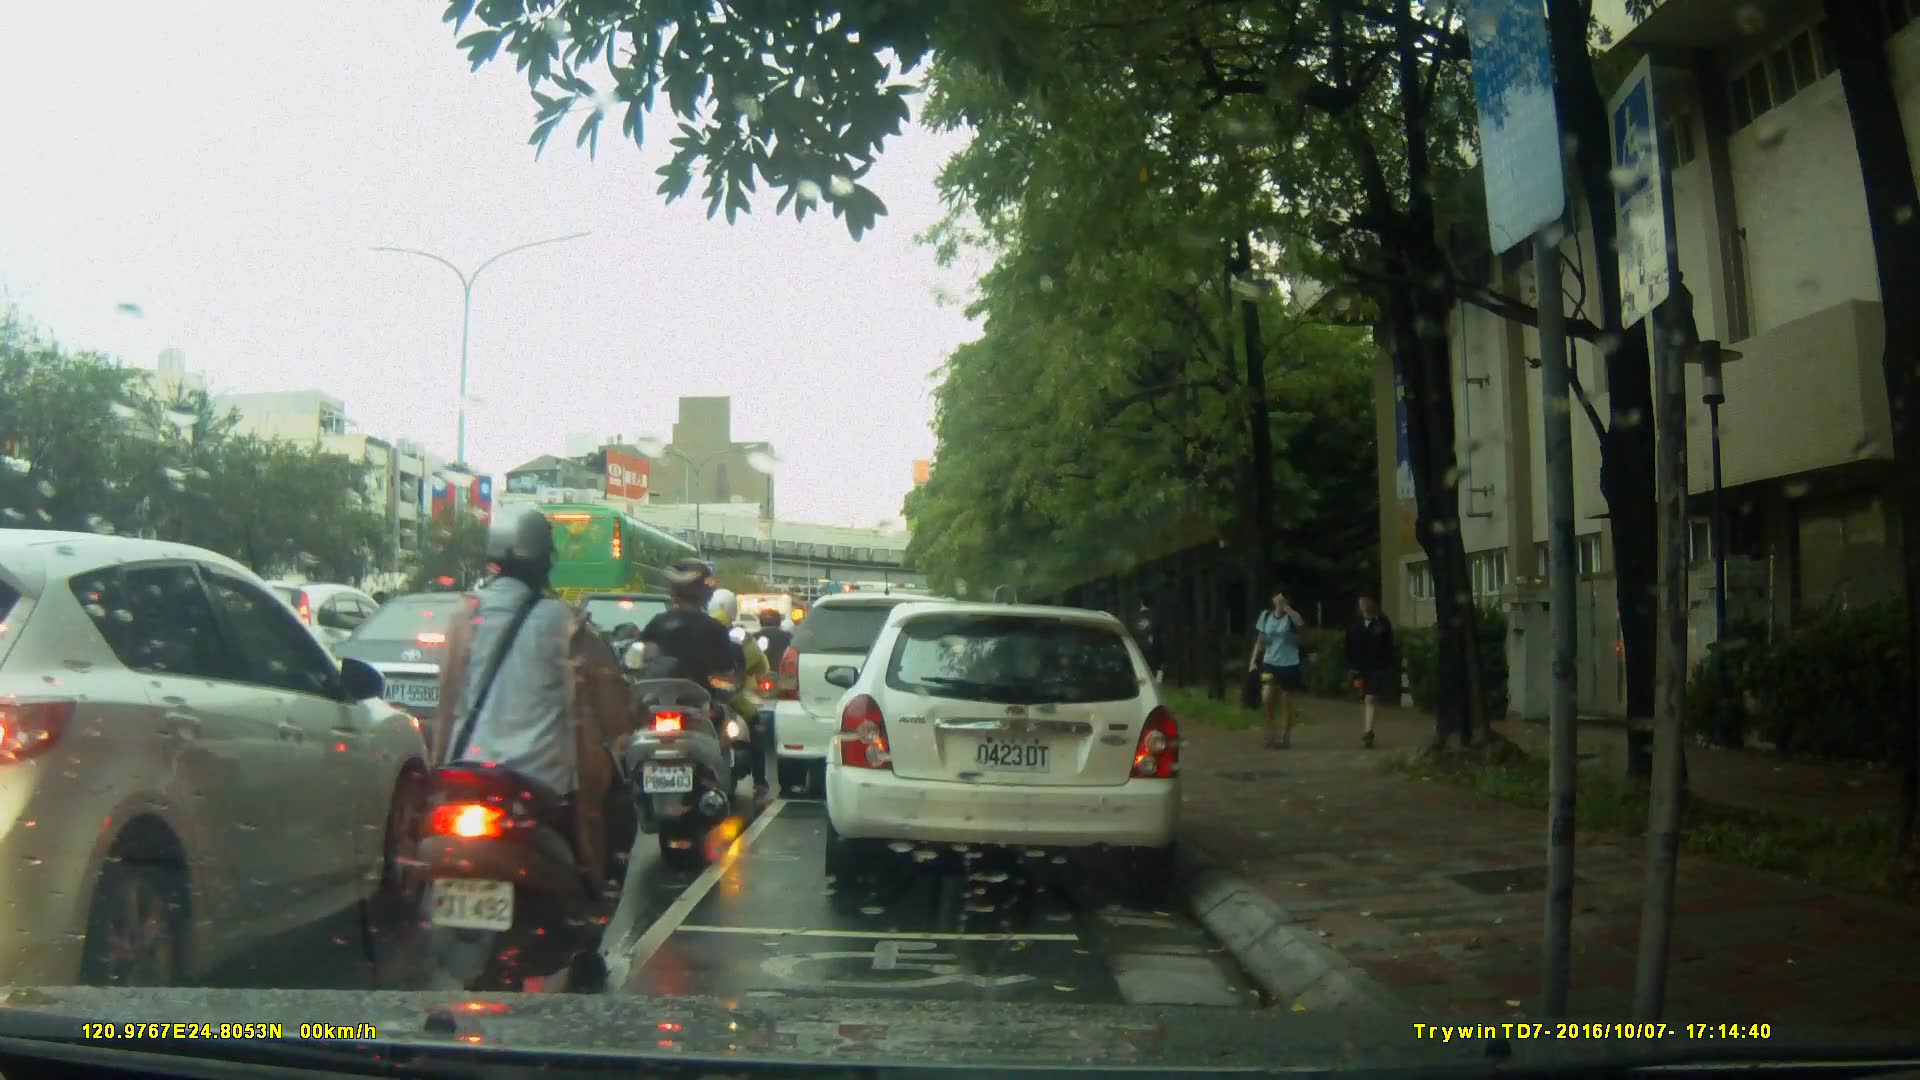pedestrian: (1224, 582, 1332, 755), (1341, 576, 1407, 760), (1123, 596, 1167, 735)
rider: (420, 503, 635, 1005), (631, 563, 745, 856), (693, 584, 778, 787), (737, 608, 805, 765)
vehicle: (1, 528, 445, 987), (831, 592, 1196, 897), (312, 590, 642, 807), (770, 592, 999, 802), (495, 500, 707, 638)
